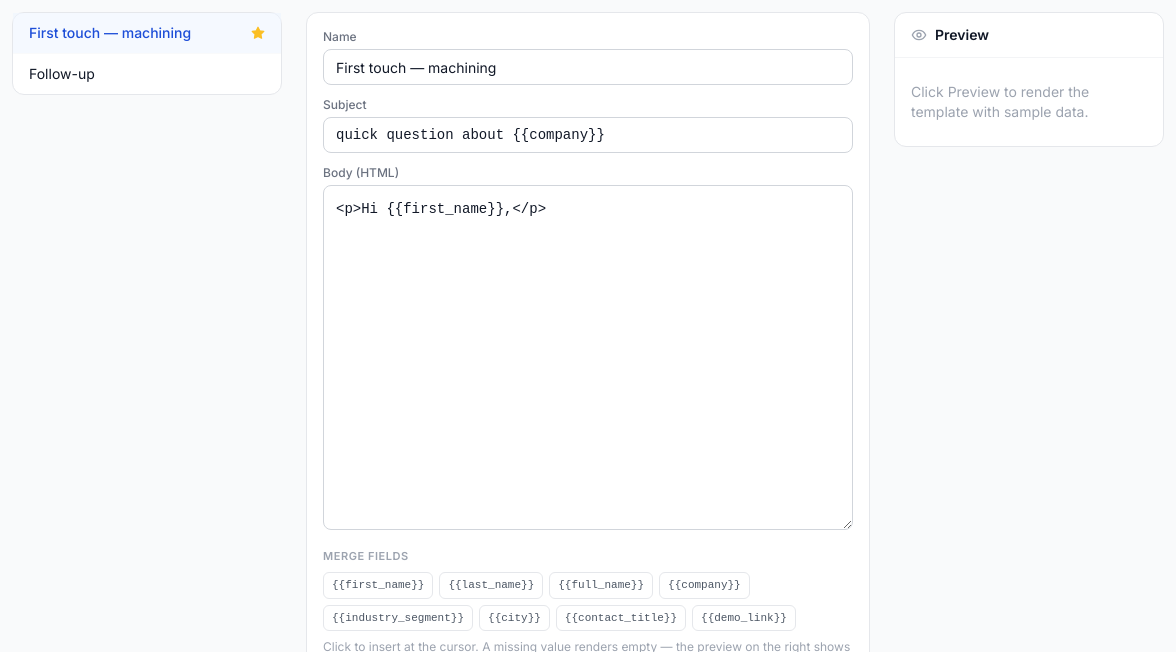
Scenario: EmailTemplates › only offers "make default" on a template that is not already the default
Expected: the button "make default" is not shown
Click the button "Follow-up". click: (62, 74)
box: [13,54,281,94]
(page scrolled)
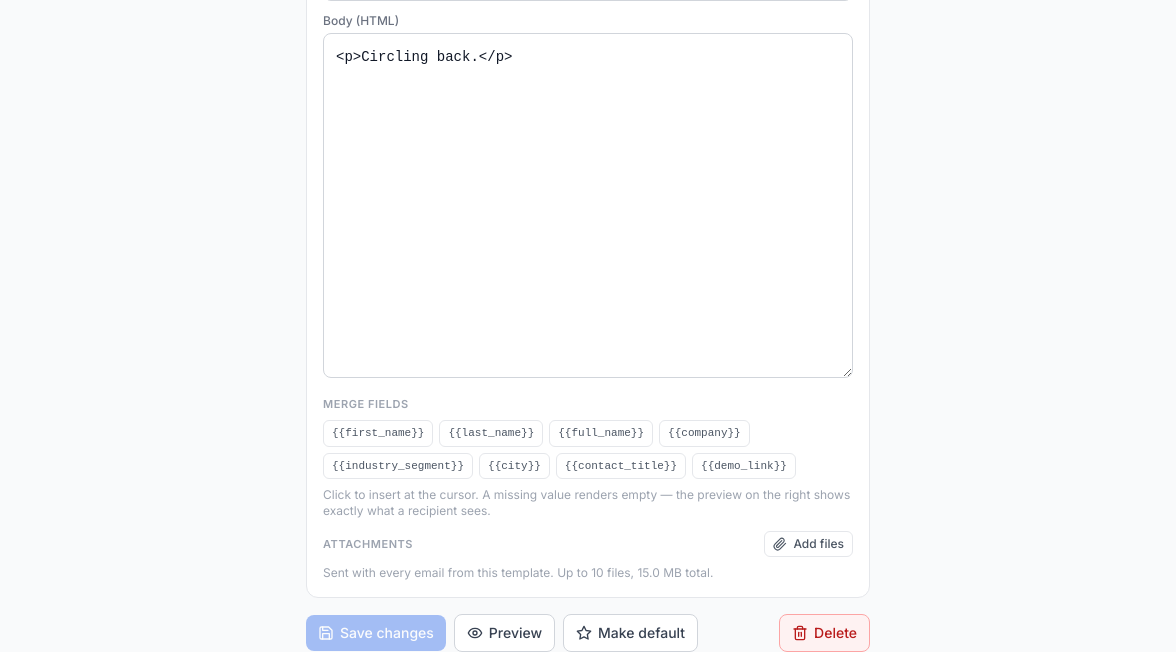
Expected: the button "Make default" is shown, [563,614,698,651]
